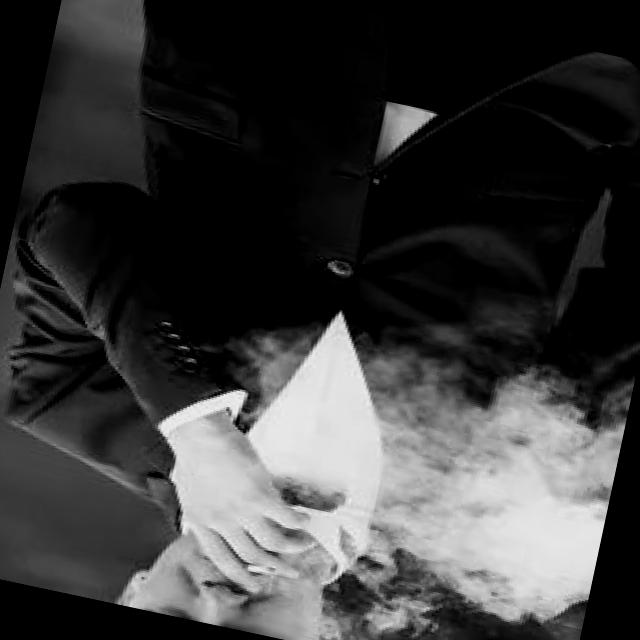cigarette: (225, 548, 283, 583)
